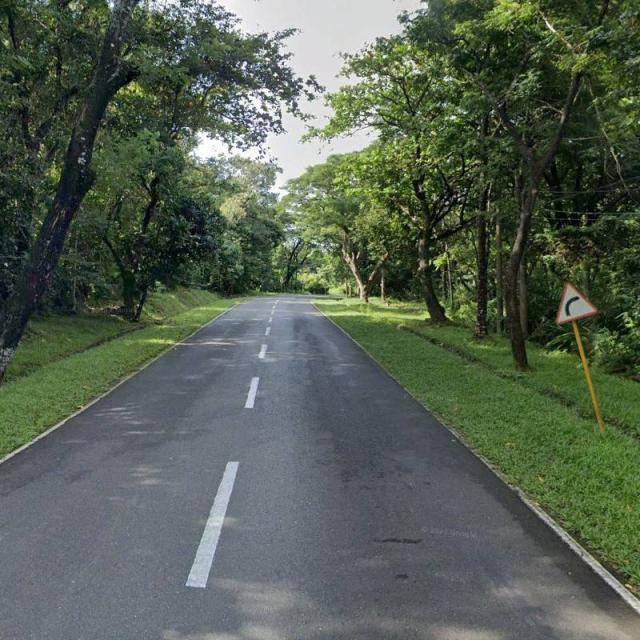warn_right_curve: (555, 281, 598, 325)
